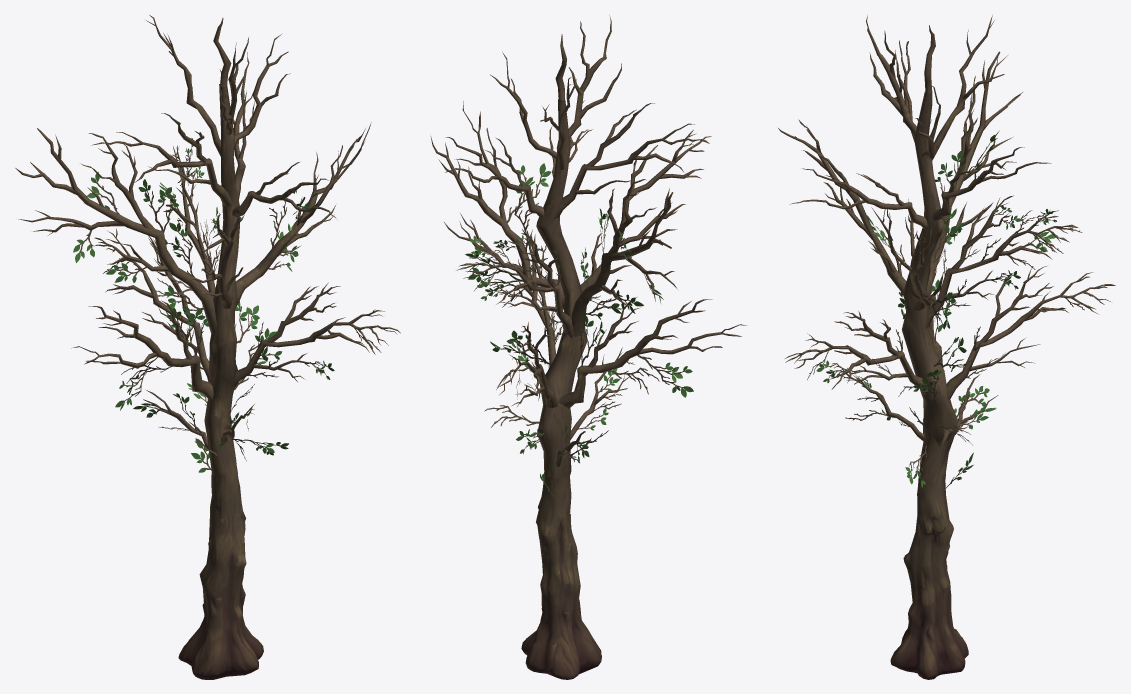
Rendered from SM_FW01_Tree_B_Dead_01.fbx.
3 views of the same model, side by side, from view 1: azimuth 30°, elevation 25°; view 2: azimuth 150°, elevation 25°; view 3: azimuth 270°, elevation 25° (orthographic). The views are drawn at different scales.
Parts seen in each view (by area): view 1: SM_FW01_Tree_B_Dead_01_LOD0; view 2: SM_FW01_Tree_B_Dead_01_LOD0; view 3: SM_FW01_Tree_B_Dead_01_LOD0.
Part boxes in pixels (x1,y1,x2,y2): SM_FW01_Tree_B_Dead_01_LOD0: (15,15,400,679); SM_FW01_Tree_B_Dead_01_LOD0: (430,15,747,679); SM_FW01_Tree_B_Dead_01_LOD0: (778,15,1115,679).
Size of what is drawn, in the model's own units: 5.88 by 11.86 by 5.62.
